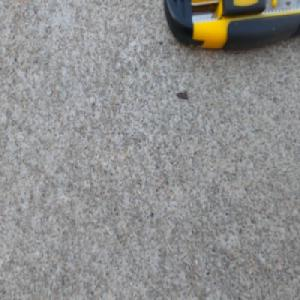Cutter: (159, 0, 300, 60)
